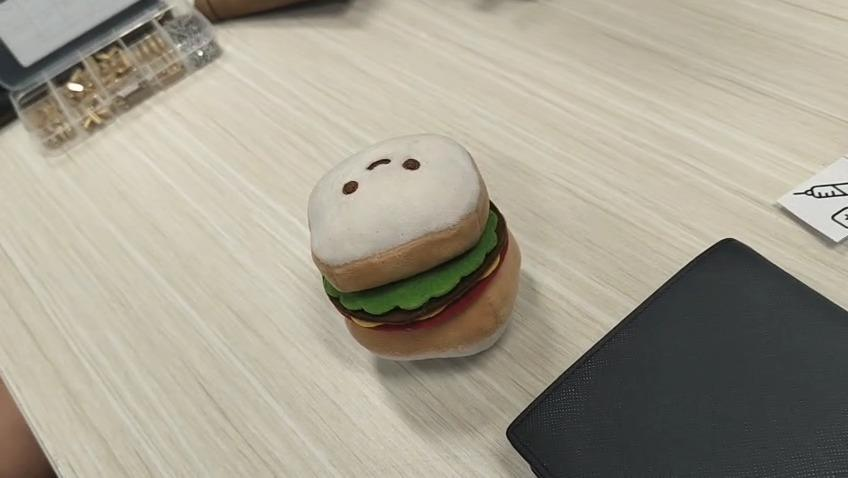objects: (309, 133, 522, 361)
